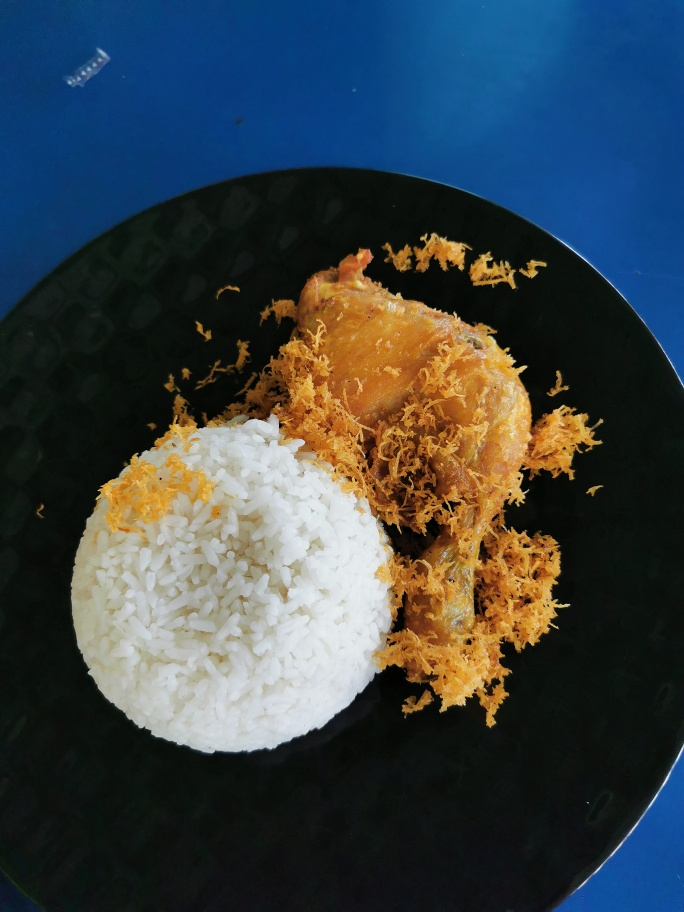ayam goreng: (247, 237, 583, 730)
nasi putih: (46, 406, 414, 770)
